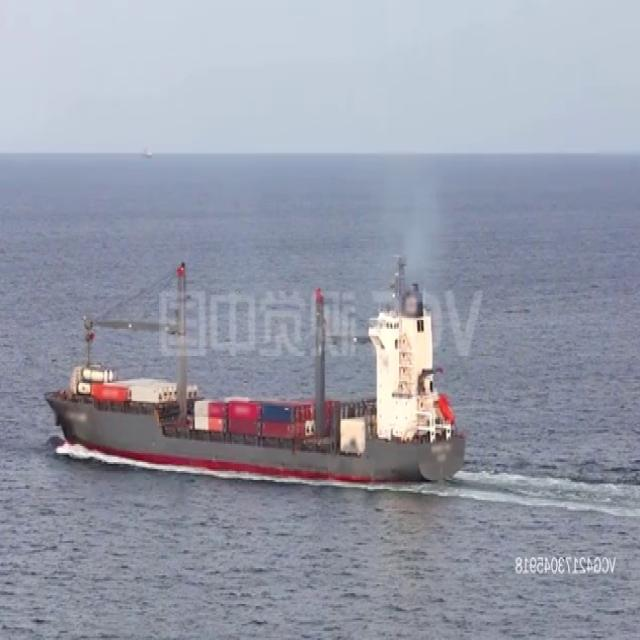cargoship: (52, 248, 469, 478)
